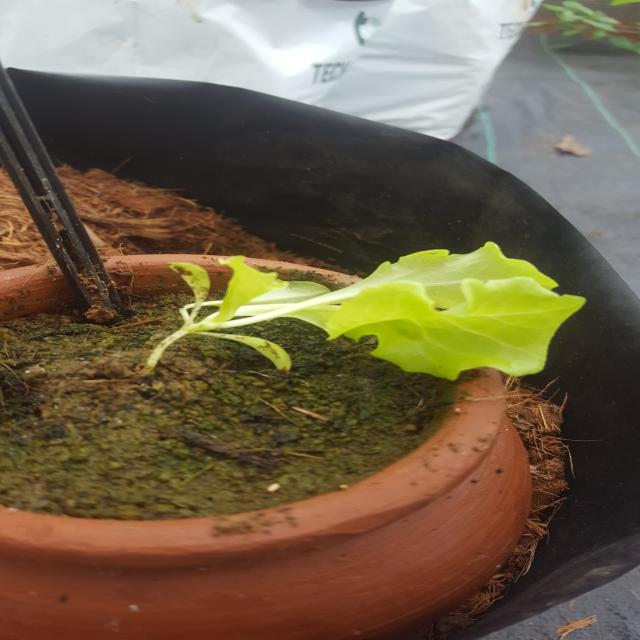Lettuce-Not-Ready-to-Harvest: (165, 239, 585, 394)
